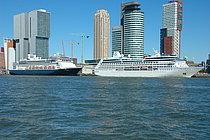Ship: (81, 50, 209, 82), (8, 52, 88, 80)
